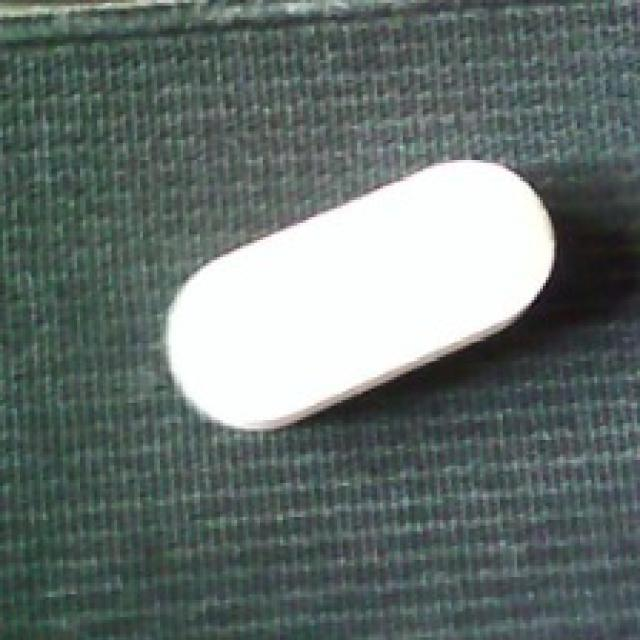no-defect: (160, 158, 560, 434)
